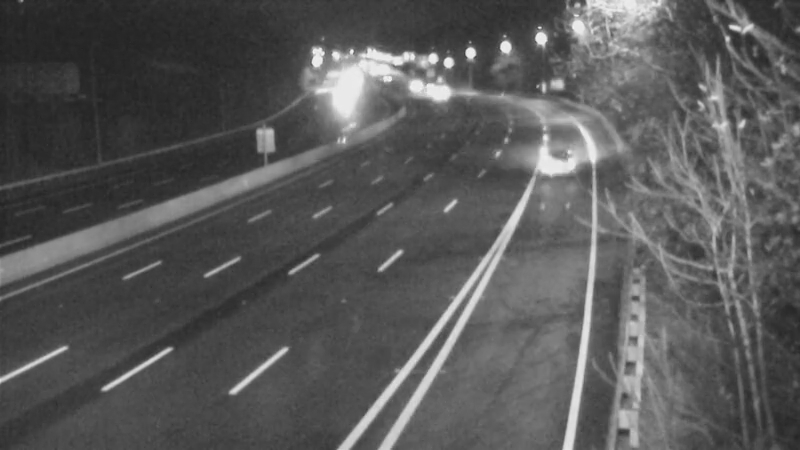vehicle: (514, 124, 594, 204), (387, 62, 437, 112), (412, 67, 462, 117)
